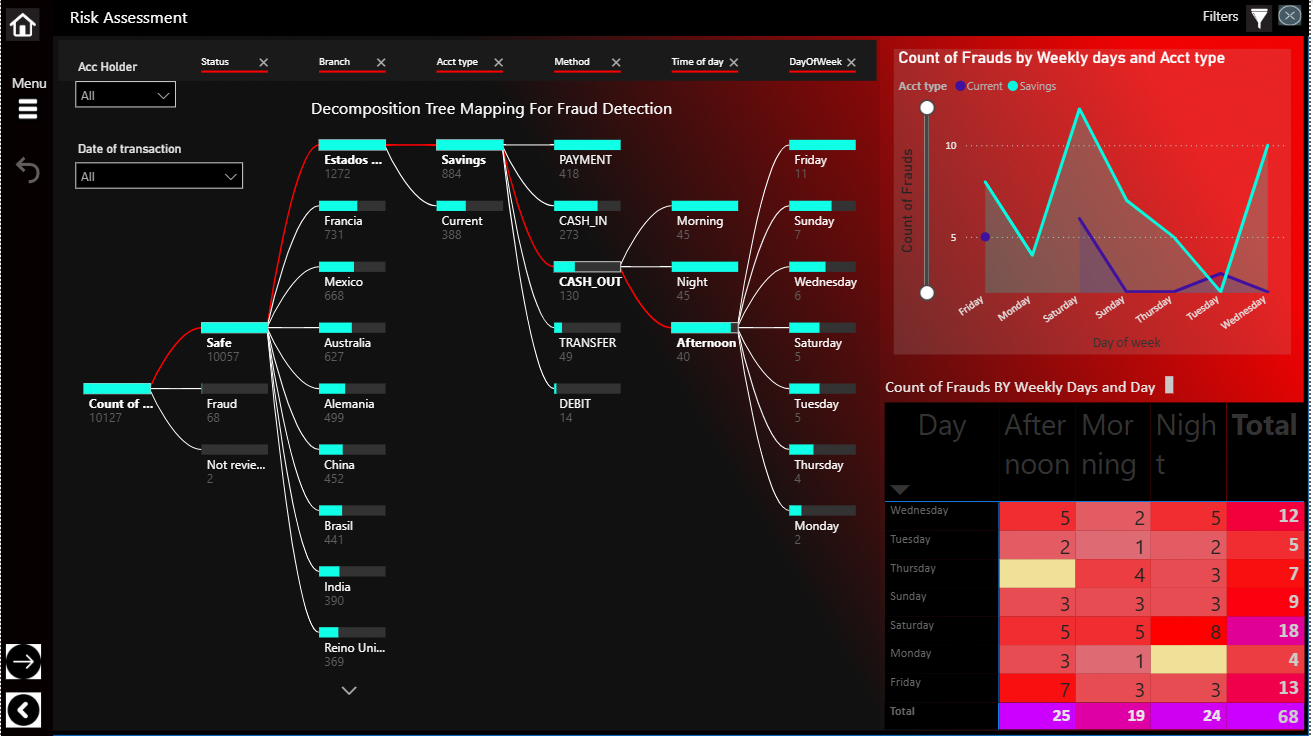

The dashboard page shown, as its layout file describes it:
{"tool":"powerbi","page":{"name":"Fraud","canvas":[1280,720],"ordinal":1},"visuals":[{"type":"shape","box":[0,0,1279.5,719.9],"z":0},{"type":"image","box":[0,1.1,1279.2,718.9],"z":1000},{"type":"shape","box":[42.3,0,1236.8,35.5],"z":3000},{"type":"shape","box":[0,0,50.9,720.8],"z":6000},{"type":"shape","box":[873,47.4,389.1,299.5],"z":7000},{"type":"shape","box":[50.8,30.5,808.7,686.9],"z":9000},{"type":"decompositionTreeVisual","fields":{"ExplainBy":["Fraud Dataset_NEW.isFraud","Fraud Dataset_NEW.branch","Fraud Dataset_NEW.Acct type","Fraud Dataset_NEW.type","Fraud Dataset_NEW.Time of day","Fraud Dataset_NEW.DayOfWeek(new)"],"Analyze":["CountNonNull(Fraud Dataset_NEW.nameOrig)"]},"box":[50.8,33.8,810.4,686.9],"z":10000},{"type":"slicer","fields":{"Values":["Fraud Dataset_NEW.Date of transaction"]},"box":[62.6,133.7,184.4,64.3],"z":11000},{"type":"slicer","fields":{"Values":["Fraud Dataset_NEW.nameOrig"]},"box":[62.6,54.1,118.4,71.1],"z":12000},{"type":"actionButton","box":[14.2,94,23.1,24.8],"z":15000},{"type":"textbox","box":[859.9,362.8,292,31],"z":16000},{"type":"actionButton","box":[8.9,147.2,35.5,39],"z":17000},{"type":"image","box":[1245.3,0,32.1,30.2],"z":23000},{"type":"areaChart","title":"Count of Frauds by Weekly days and Acct type","fields":{"Category":["Fraud Dataset_NEW.DayOfWeek(new)"],"Series":["Fraud Dataset_NEW.Acct type"],"Y":["CountNonNull(Fraud Dataset_NEW.isFraud)"]},"box":[873,47.4,389.1,299.5],"z":25000},{"type":"image","box":[1200,0,62.3,35.8],"z":26000},{"type":"actionButton","box":[3.5,67.4,47.9,23.1],"z":27000},{"type":"actionButton","box":[1166,0,52.8,30.2],"z":28000},{"type":"textbox","box":[62.3,0,294.3,37.7],"z":29000},{"type":"pivotTable","fields":{"Columns":["Fraud Dataset_NEW.Time of day"],"Values":["CountNonNull(Fraud Dataset_NEW.nameOrig)"],"Rows":["Fraud Dataset_NEW.DayOfWeek(new)"]},"box":[859.5,389.1,421.3,331.6],"z":30000},{"type":"textbox","box":[297.8,89.2,394.1,35.7],"z":31000},{"type":"image","box":[0,0,42.6,47.9],"z":33000},{"type":"image","box":[0,672,44.3,44.3],"z":34000},{"type":"image","box":[0,624.2,44.3,47.9],"z":35000}]}

Visuals, with their boxes on the page's 1280x720 design canvas (x1, y1, x2, y2). These are canvas units, not pixel positions in the 1313x736 screenshot, which may show the page scaled, cropped or inside an application window:
shape: pyautogui.locateOnScreen(0, 0, 1280, 720)
image: pyautogui.locateOnScreen(0, 1, 1279, 720)
shape: pyautogui.locateOnScreen(42, 0, 1279, 36)
shape: pyautogui.locateOnScreen(0, 0, 51, 721)
shape: pyautogui.locateOnScreen(873, 47, 1262, 347)
shape: pyautogui.locateOnScreen(51, 30, 860, 717)
decompositionTreeVisual - Fraud Dataset_NEW.isFraud x Fraud Dataset_NEW.branch: pyautogui.locateOnScreen(51, 34, 861, 721)
slicer - Fraud Dataset_NEW.Date of transaction: pyautogui.locateOnScreen(63, 134, 247, 198)
slicer - Fraud Dataset_NEW.nameOrig: pyautogui.locateOnScreen(63, 54, 181, 125)
actionButton: pyautogui.locateOnScreen(14, 94, 37, 119)
textbox: pyautogui.locateOnScreen(860, 363, 1152, 394)
actionButton: pyautogui.locateOnScreen(9, 147, 44, 186)
image: pyautogui.locateOnScreen(1245, 0, 1277, 30)
"Count of Frauds by Weekly days and Acct type" areaChart: pyautogui.locateOnScreen(873, 47, 1262, 347)
image: pyautogui.locateOnScreen(1200, 0, 1262, 36)
actionButton: pyautogui.locateOnScreen(4, 67, 51, 90)
actionButton: pyautogui.locateOnScreen(1166, 0, 1219, 30)
textbox: pyautogui.locateOnScreen(62, 0, 357, 38)
pivotTable - Fraud Dataset_NEW.Time of day x CountNonNull(Fraud Dataset_NEW.nameOrig): pyautogui.locateOnScreen(860, 389, 1281, 721)
textbox: pyautogui.locateOnScreen(298, 89, 692, 125)
image: pyautogui.locateOnScreen(0, 0, 43, 48)
image: pyautogui.locateOnScreen(0, 672, 44, 716)
image: pyautogui.locateOnScreen(0, 624, 44, 672)
